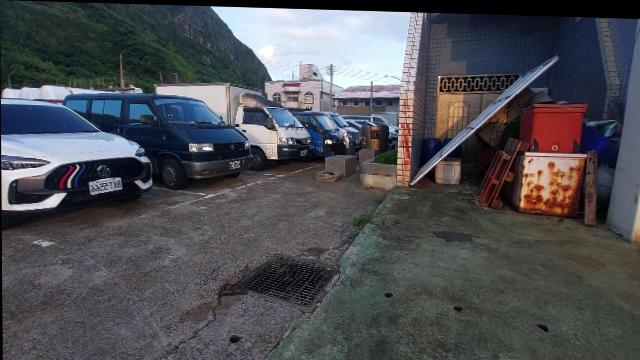pollute: (472, 84, 590, 214), (585, 114, 622, 162), (420, 136, 454, 166), (432, 154, 462, 183), (597, 161, 615, 204), (587, 148, 595, 220)
